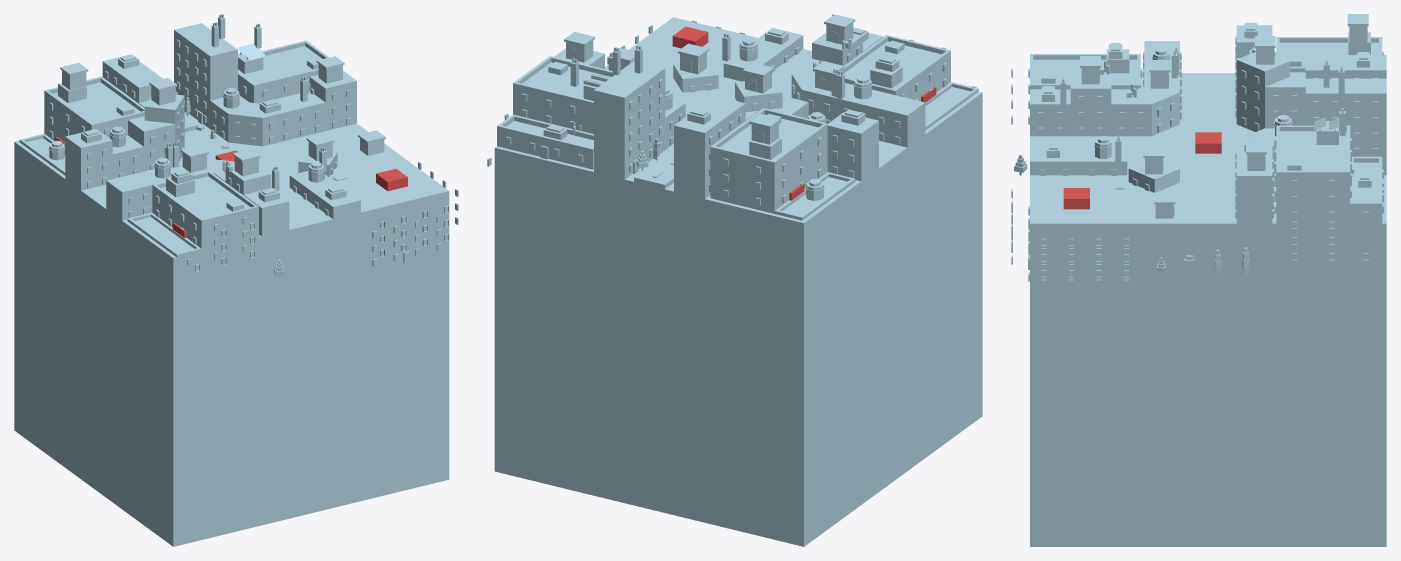
Rendered from block_14_sewersystem_100.glb.
3 renders of one model, left to right at view 1: azimuth 30°, elevation 25°; view 2: azimuth 150°, elevation 25°; view 3: azimuth 270°, elevation 25°, orthographic. The views are drawn at different scales.
Visible parts, largest first — view 1: Patch_MidRight_b14_SL, Cerda_MidRight_b14_SL, Insets_MidRight_b14_SL, CerdaRoofProps_MidRight_b14_SL, SL_Net_14; view 2: Patch_MidRight_b14_SL, Cerda_MidRight_b14_SL, Insets_MidRight_b14_SL, CerdaRoofProps_MidRight_b14_SL, Roads_MidRight_b14_SL, SL_Net_14; view 3: Patch_MidRight_b14_SL, Cerda_MidRight_b14_SL, Insets_MidRight_b14_SL, CerdaRoofProps_MidRight_b14_SL, SL_Net_14.
Part boxes in pixels (left/top/right/bottom): Patch_MidRight_b14_SL: left=14, top=112, right=449, bottom=546; Cerda_MidRight_b14_SL: left=65, top=23, right=360, bottom=279; Insets_MidRight_b14_SL: left=19, top=40, right=458, bottom=287; CerdaRoofProps_MidRight_b14_SL: left=48, top=14, right=385, bottom=202; SL_Net_14: left=55, top=137, right=407, bottom=237; Patch_MidRight_b14_SL: left=494, top=17, right=982, bottom=546; Cerda_MidRight_b14_SL: left=554, top=27, right=925, bottom=213; Insets_MidRight_b14_SL: left=487, top=20, right=978, bottom=220; CerdaRoofProps_MidRight_b14_SL: left=543, top=14, right=899, bottom=200; Roads_MidRight_b14_SL: left=634, top=150, right=901, bottom=197; SL_Net_14: left=672, top=26, right=936, bottom=200; Patch_MidRight_b14_SL: left=1030, top=73, right=1386, bottom=546; Cerda_MidRight_b14_SL: left=1030, top=25, right=1386, bottom=291; Insets_MidRight_b14_SL: left=1011, top=32, right=1383, bottom=291; CerdaRoofProps_MidRight_b14_SL: left=1041, top=14, right=1371, bottom=218; SL_Net_14: left=1063, top=132, right=1221, bottom=209.
Size of the model in its own units: 10 by 12.66 by 10.
